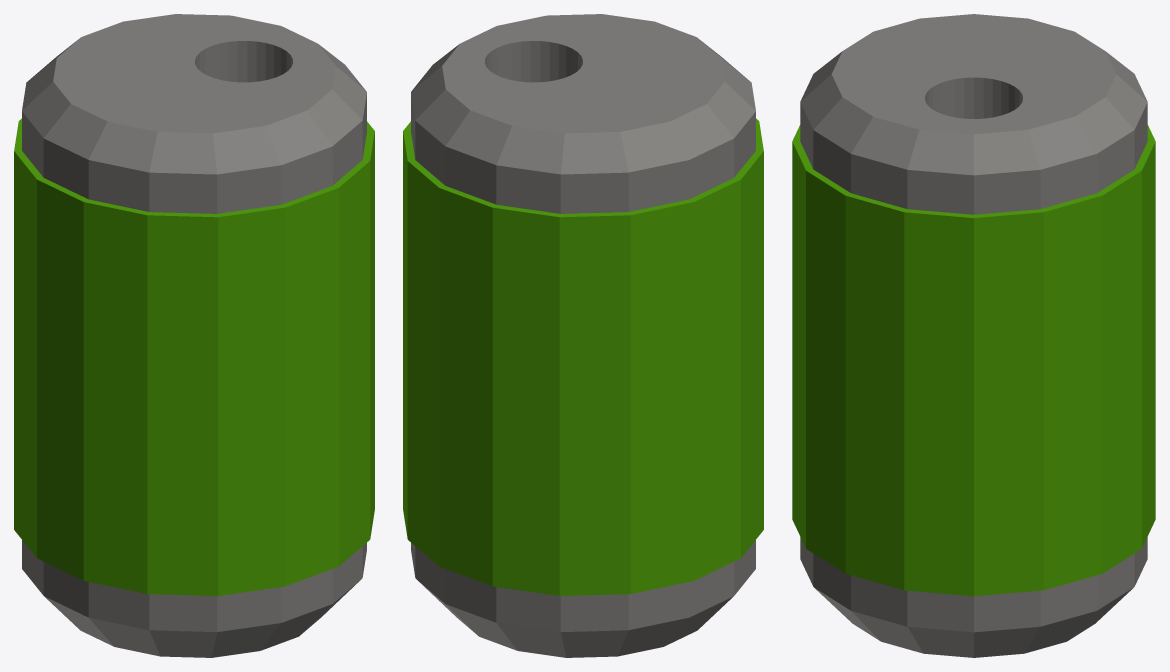
Rendered from energol.fbx.
The picture shows the model from 3 angles, left to right: view 1: azimuth 30°, elevation 25°; view 2: azimuth 150°, elevation 25°; view 3: azimuth 270°, elevation 25°; orthographic projection.
Visible parts, largest first — view 1: Cylinder.001; view 2: Cylinder.001; view 3: Cylinder.001.
Boxes of the visible parts, <box> form: Cylinder.001: <box>14,14,374,657</box>; Cylinder.001: <box>403,14,763,657</box>; Cylinder.001: <box>792,14,1155,657</box>.
Size of the model in its own units: 209 by 335 by 209.
